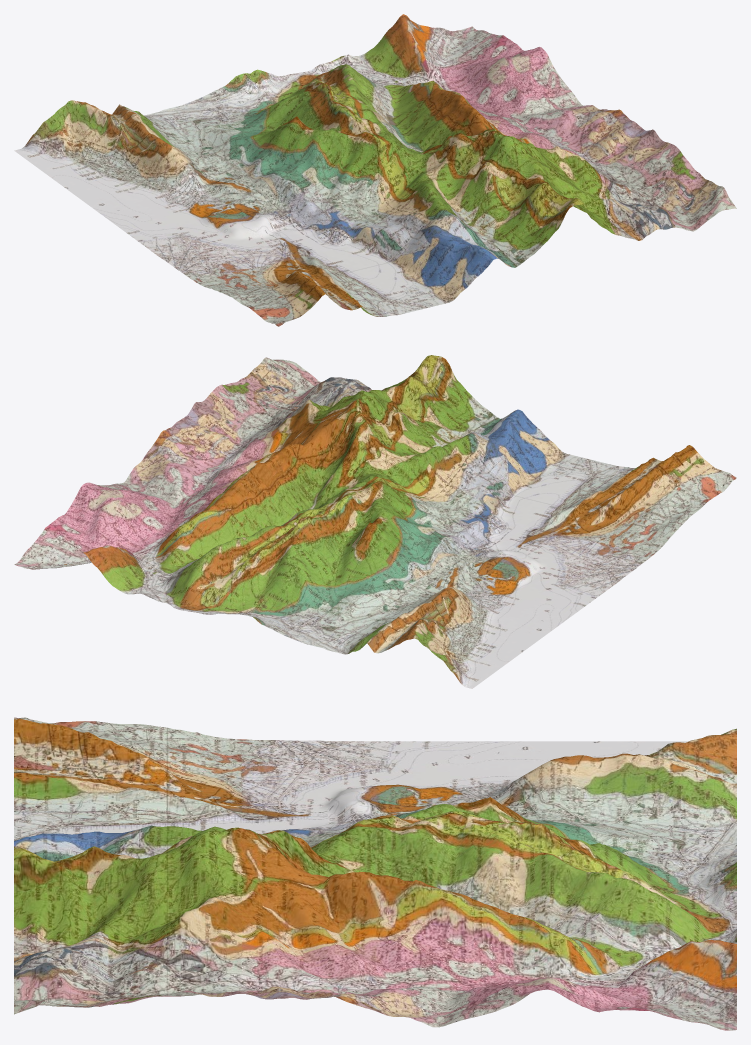
Rendered from UPS-DST-CA1-Bornes.glb.
The picture shows the model from 3 angles, top to bottom: view 1: azimuth 30°, elevation 25°; view 2: azimuth 150°, elevation 25°; view 3: azimuth 270°, elevation 25°; orthographic projection. The views are drawn at different scales.
Parts seen in each view (by area): view 1: Plane; view 2: Plane; view 3: Plane.
Part boxes in pixels (box(x1,y1,x2,y2)): Plane: box(14, 14, 736, 326); Plane: box(14, 355, 736, 688); Plane: box(14, 717, 736, 1030).
Size of the model in its own units: 11.76 by 2.02 by 11.76.
1 material, 1 textured.
